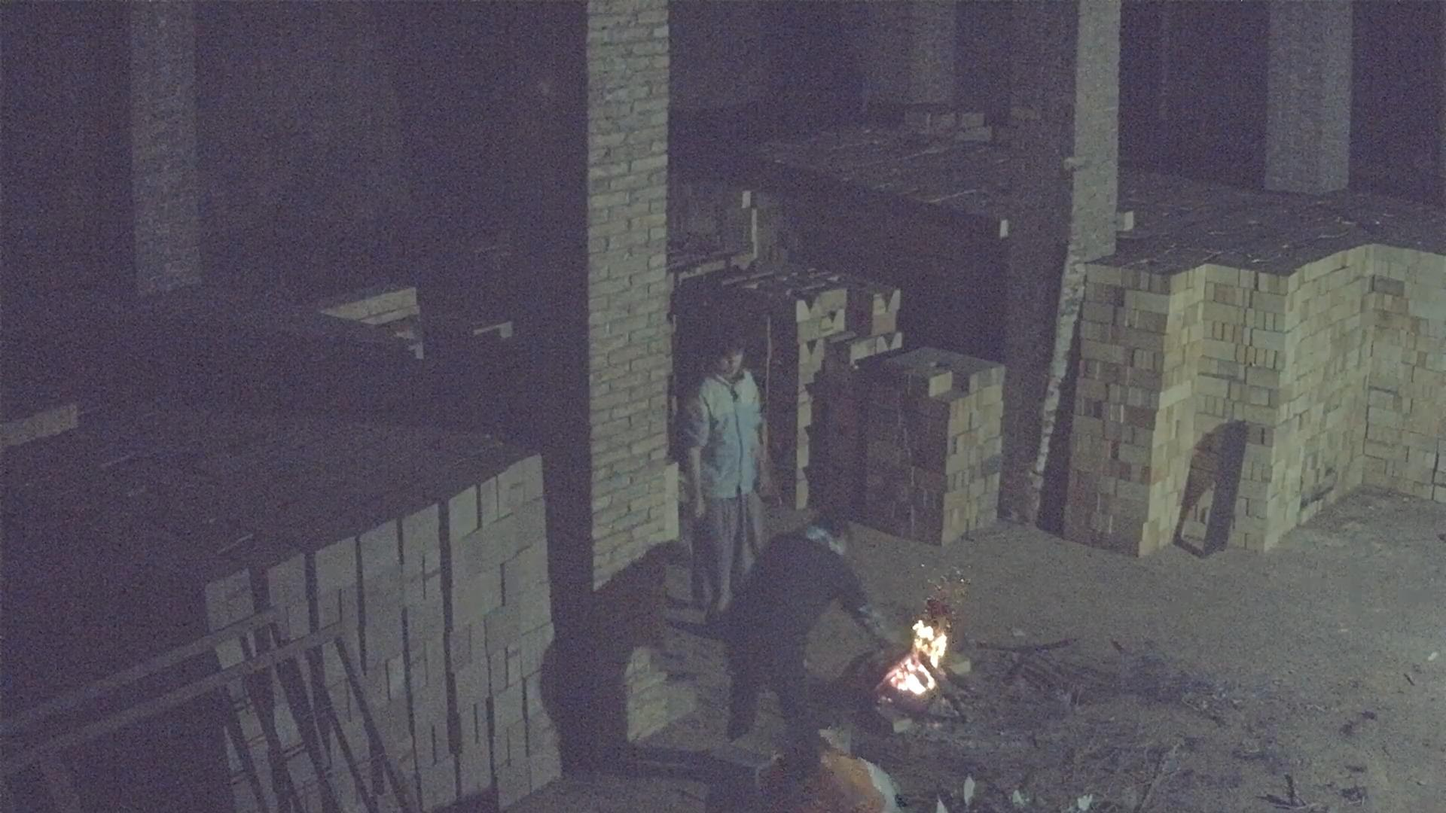fire: (875, 598, 951, 713)
